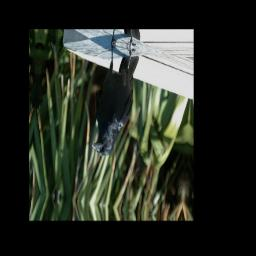Crow: (91, 41, 140, 162)
